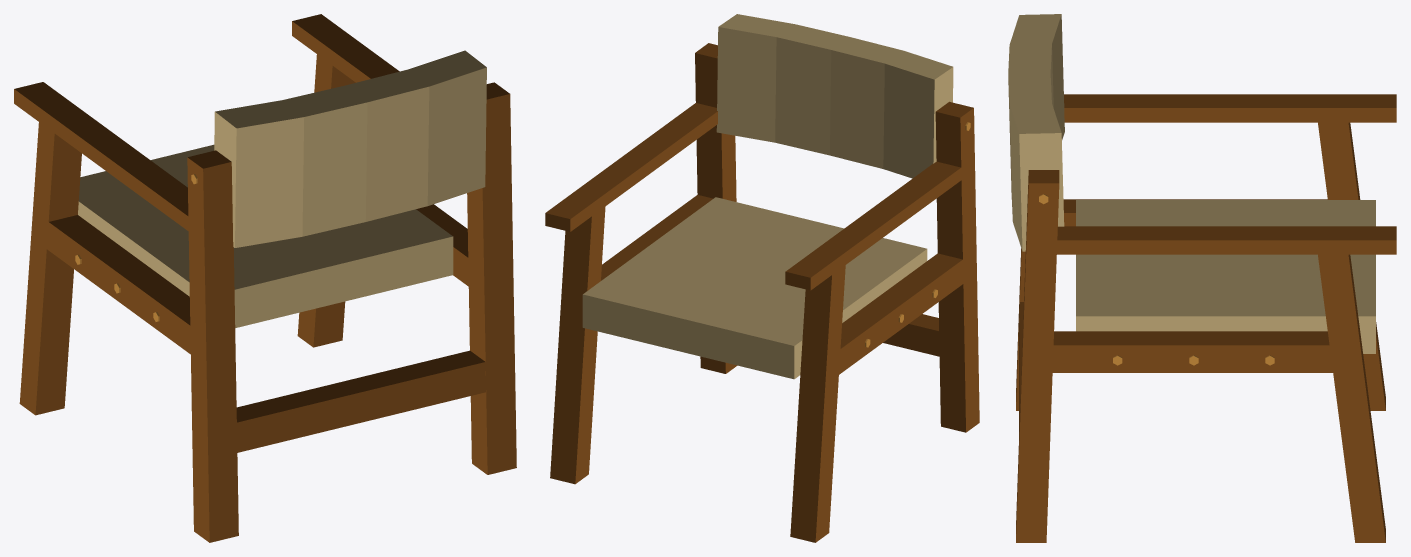
Rendered from Chair 5.fbx.
3 renders of one model, left to right at view 1: azimuth 30°, elevation 25°; view 2: azimuth 150°, elevation 25°; view 3: azimuth 270°, elevation 25°, orthographic. The views are drawn at different scales.
Parts seen in each view (by area): view 1: Node 0; view 2: Node 0; view 3: Node 0.
Boxes of the visible parts, box(x1,y1,x2,y2) form: Node 0: box(14, 14, 516, 542); Node 0: box(545, 14, 979, 542); Node 0: box(1008, 14, 1396, 542).
Bounding box in the file's own units: 0.6894 × 0.7764 × 0.6191.
